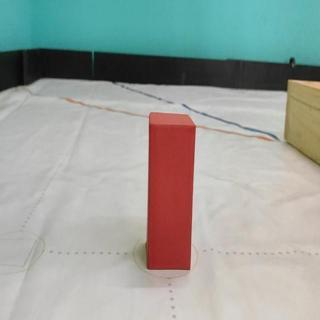redbox: (145, 110, 196, 271)
